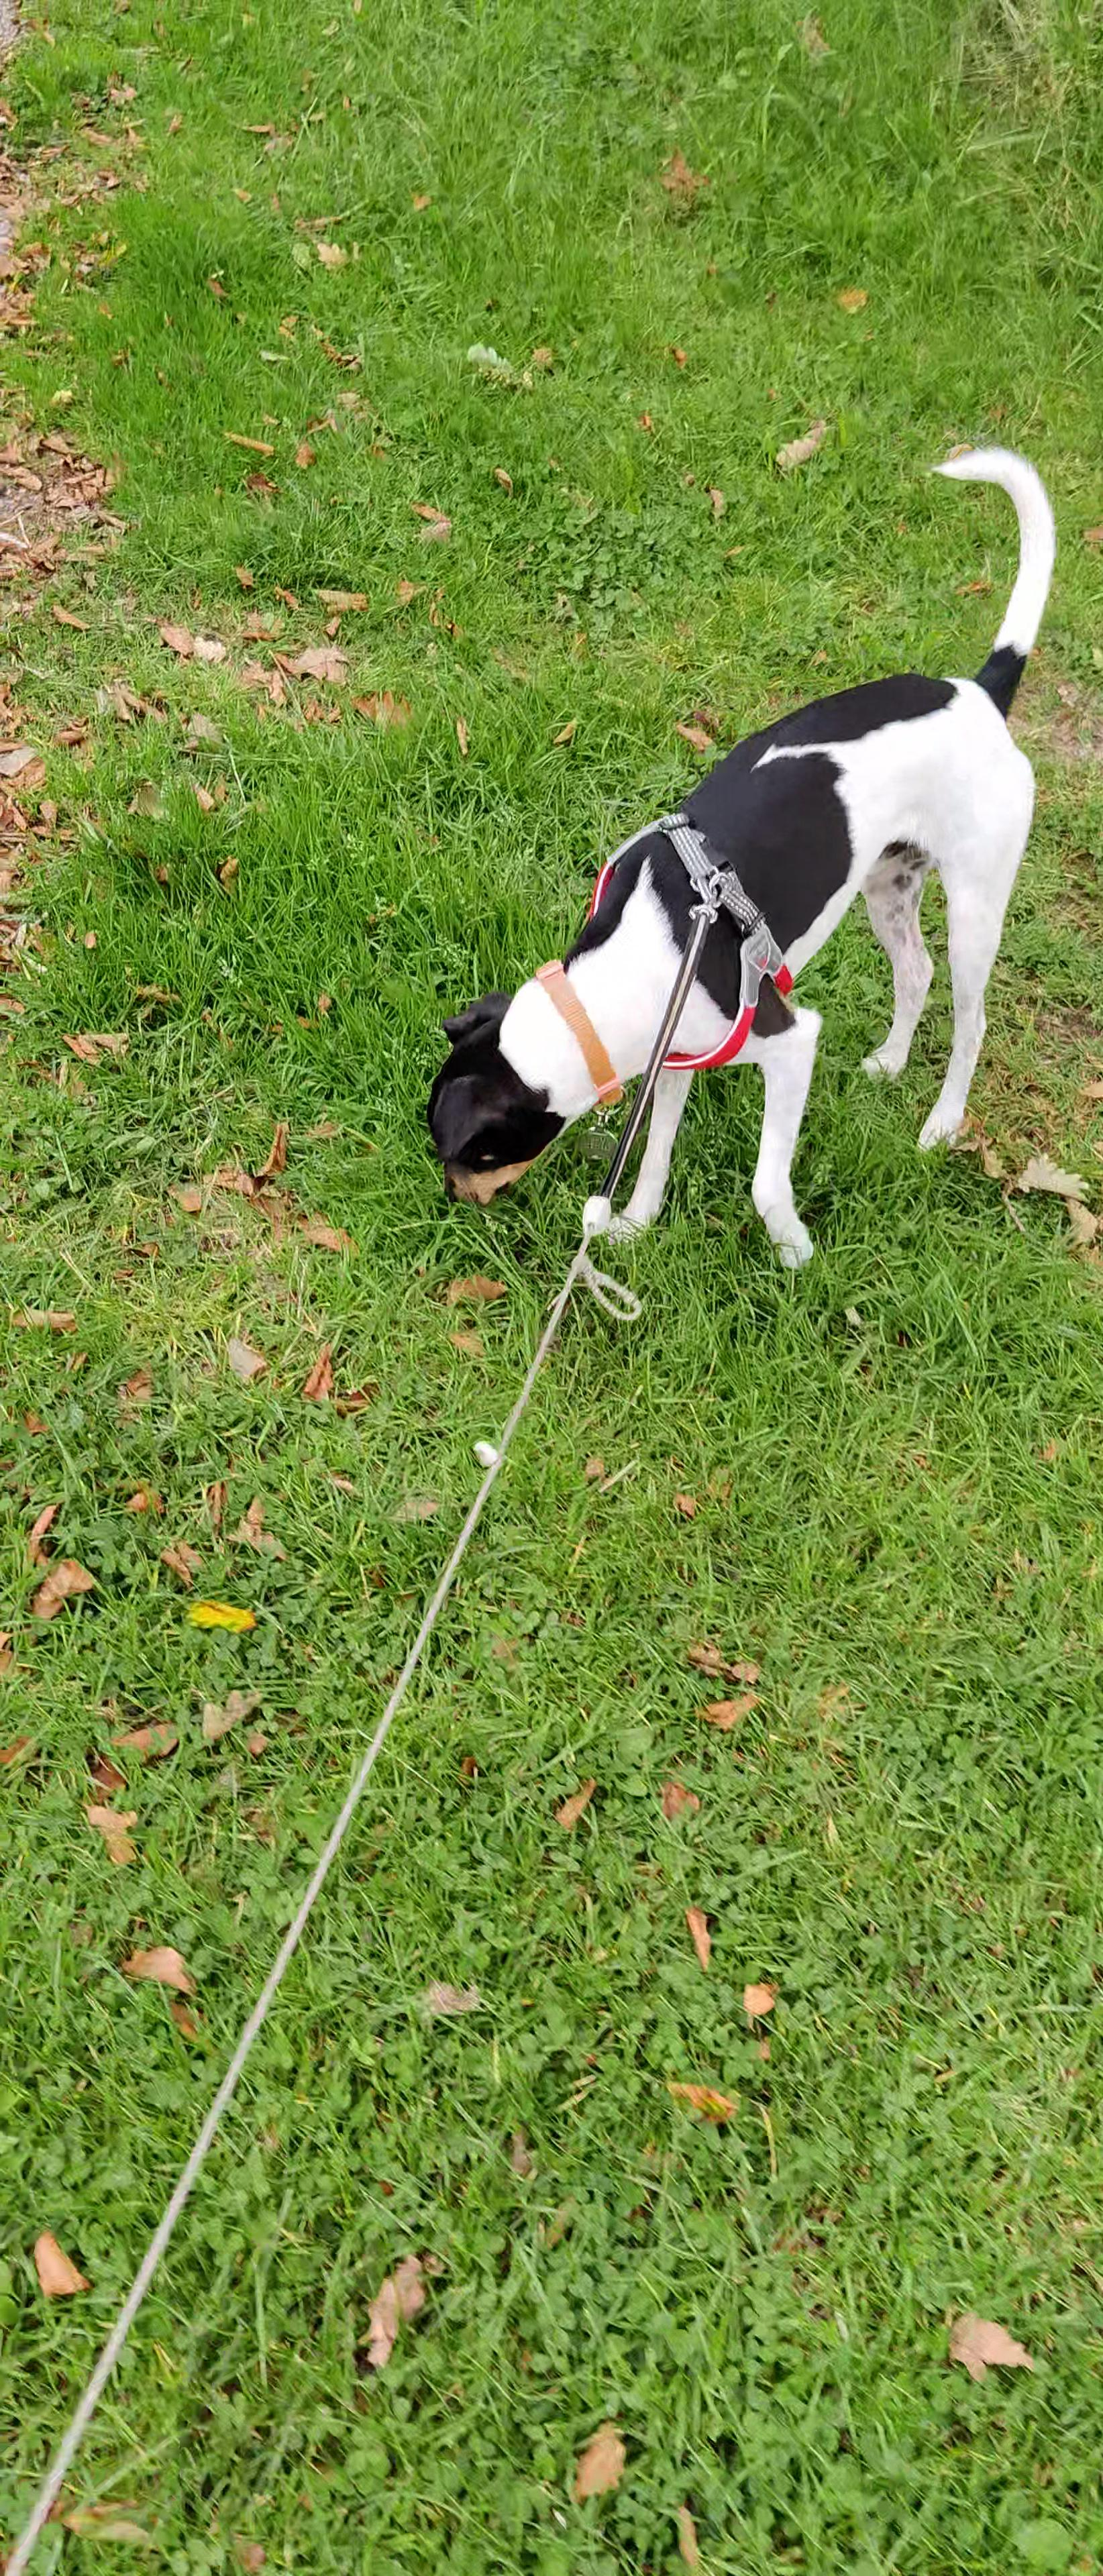Dog: (391, 432, 1078, 1276)
